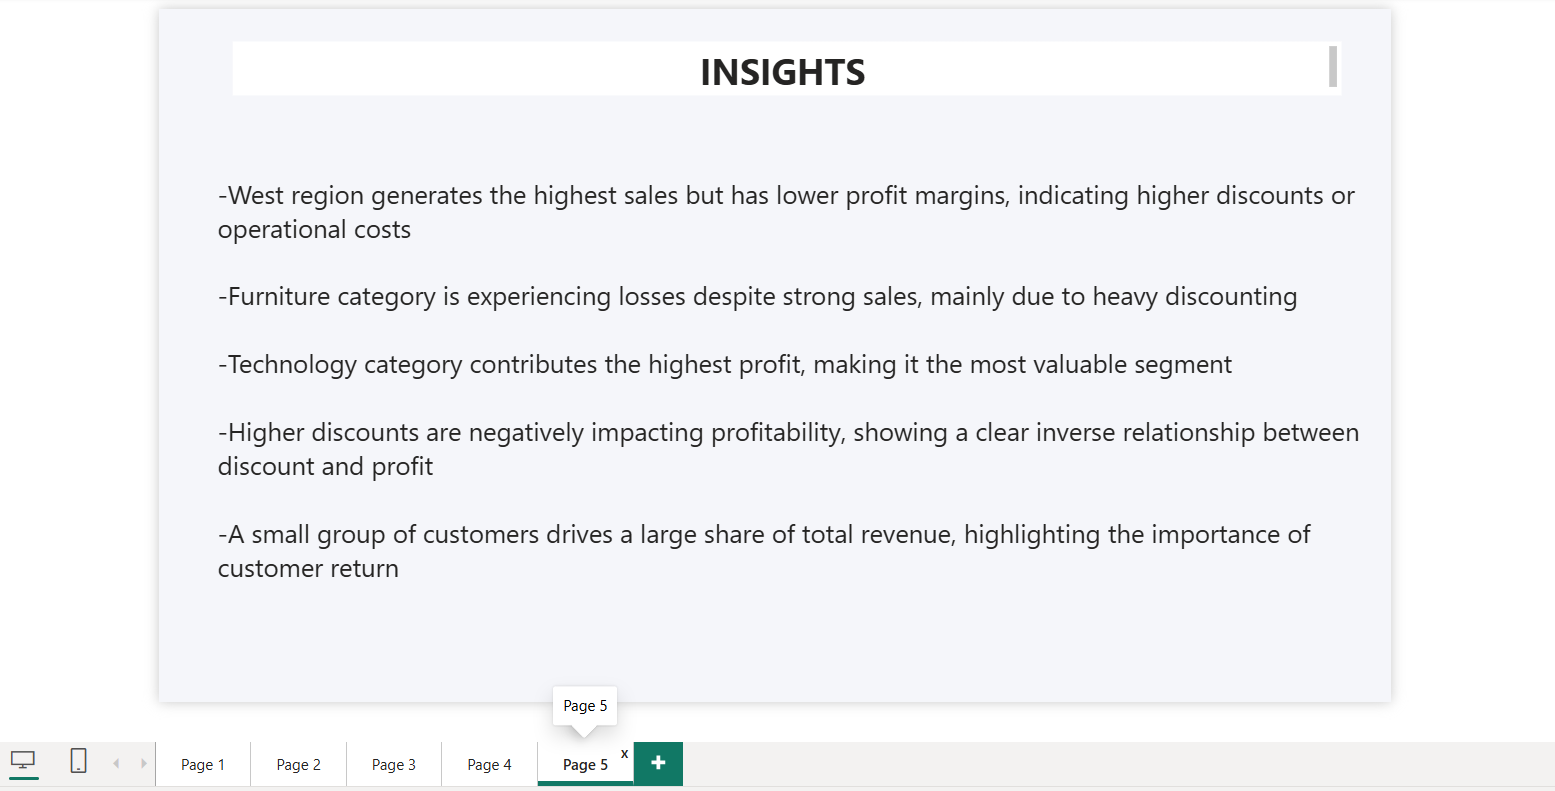

What the dashboard file says about the page in this screenshot:
{"tool":"powerbi","page":{"name":"Page 5","canvas":[1280,720],"ordinal":4},"visuals":[{"type":"textbox","box":[55.8,168.8,1224.7,550.6],"z":0},{"type":"textbox","box":[76.6,33.8,1151.9,55.8],"z":1}]}

Visuals, with their boxes on the page's 1280x720 design canvas (x1, y1, x2, y2). These are canvas units, not pixel positions in the 1555x791 screenshot, which may show the page scaled, cropped or inside an application window:
textbox: Rect(56, 169, 1280, 719)
textbox: Rect(77, 34, 1228, 90)
